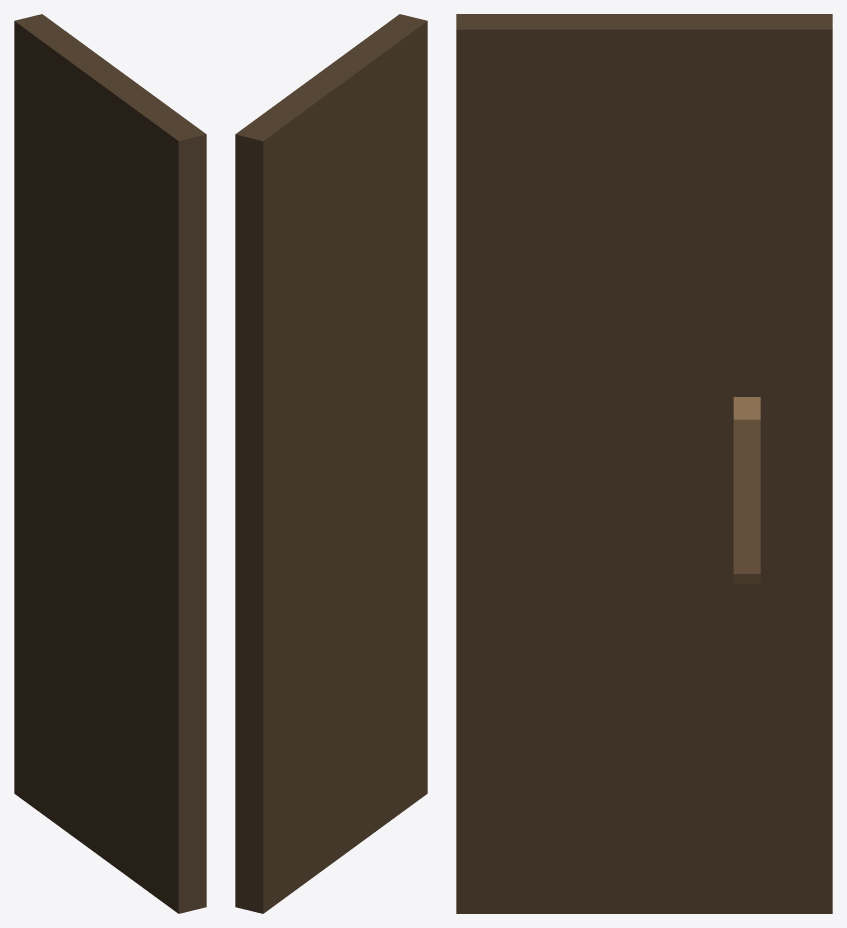
Rendered from WardrobeDoorLeft_Bedroom_V1.fbx.
The picture shows the model from 3 angles, left to right: view 1: azimuth 30°, elevation 25°; view 2: azimuth 150°, elevation 25°; view 3: azimuth 270°, elevation 25°; orthographic projection. The views are drawn at different scales.
Parts seen in each view (by area): view 1: Cube.024; view 2: Cube.024; view 3: Cube.024, Cube.026.
Part boxes in pixels (x1,y1,x2,y2): Cube.024: [14, 14, 206, 913]; Cube.024: [235, 14, 427, 913]; Cube.024: [456, 14, 832, 913]; Cube.026: [733, 397, 760, 584].
Bounding box in the file's own units: 13.3 × 251 × 96.99.
